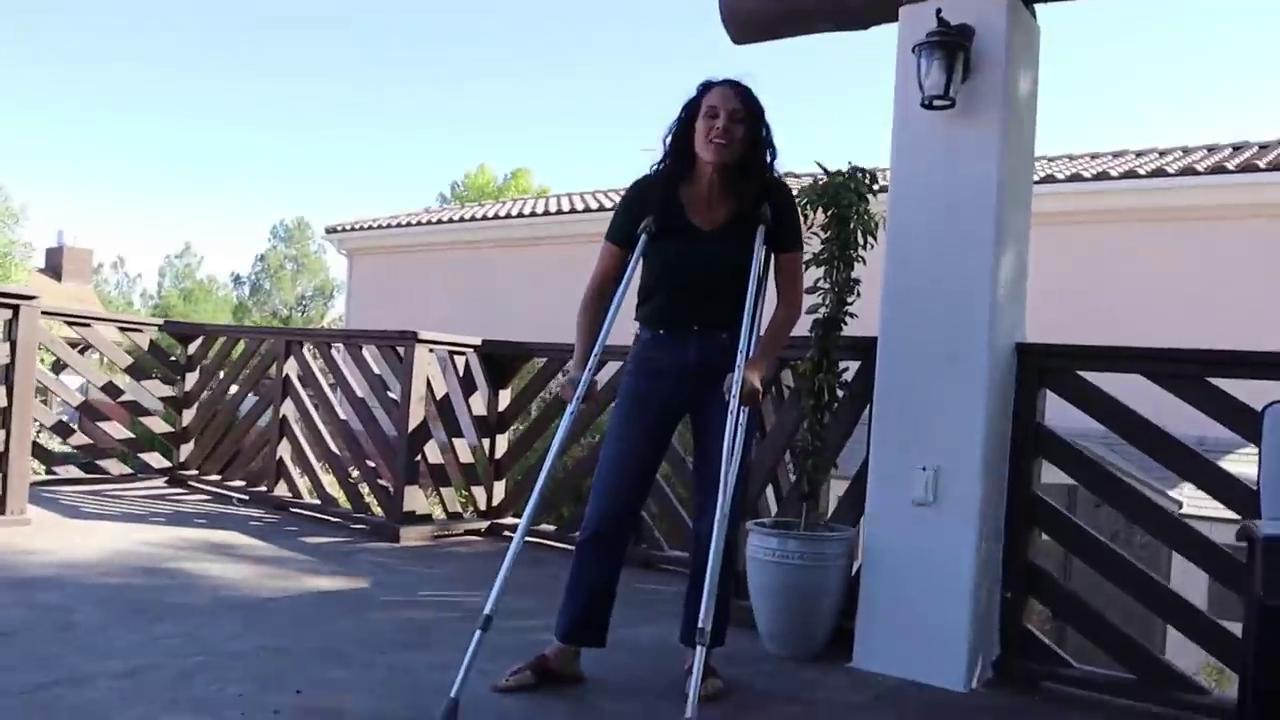crutches: (440, 77, 806, 719)
